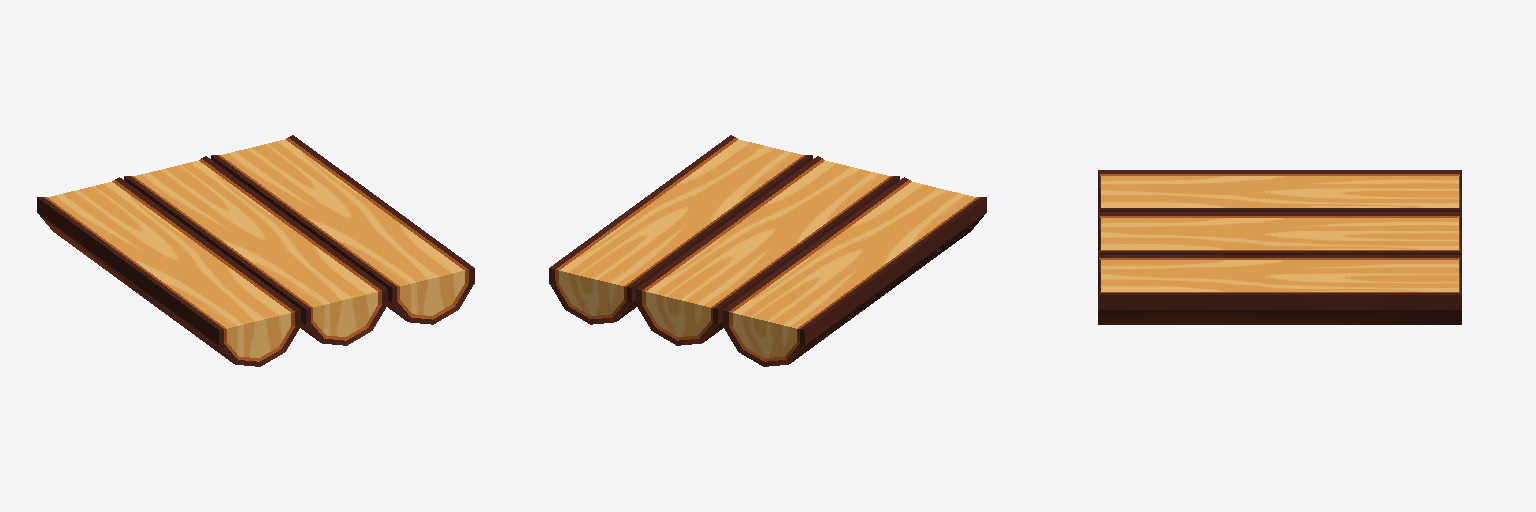
3 renders of one model, left to right at view 1: azimuth 30°, elevation 25°; view 2: azimuth 150°, elevation 25°; view 3: azimuth 270°, elevation 25°, orthographic.
Parts seen in each view (by area): view 1: Cylinder; view 2: Cylinder; view 3: Cylinder.
Boxes of the visible parts, x1=… form: Cylinder: x1=37, y1=135, x2=474, y2=366; Cylinder: x1=549, y1=135, x2=986, y2=366; Cylinder: x1=1098, y1=170, x2=1461, y2=324.
Size of the model in its own units: 5.9 by 1.03 by 7.25.
Materials: 1 (1 with a texture image).